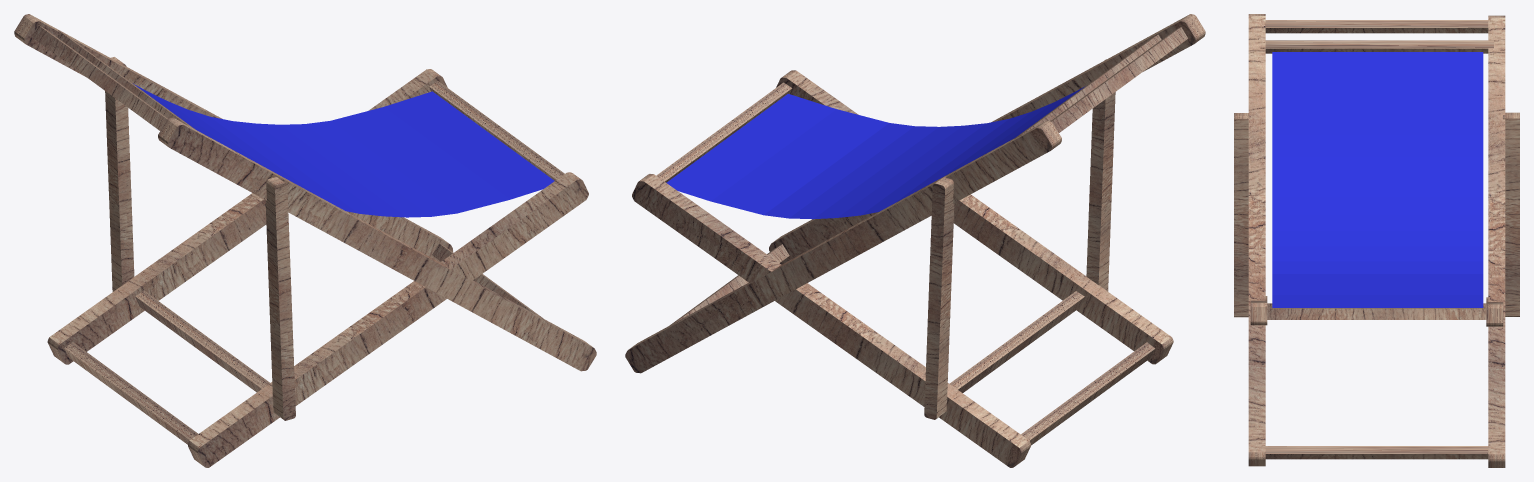
File: BeachChair.fbx
3 renders of one model, left to right at view 1: azimuth 30°, elevation 25°; view 2: azimuth 150°, elevation 25°; view 3: azimuth 270°, elevation 25°, orthographic. The views are drawn at different scales.
Parts seen in each view (by area): view 1: BeachChair; view 2: BeachChair; view 3: BeachChair.
Boxes of the visible parts, x1,y1,x2,y2 form: BeachChair: (14,14,596,467); BeachChair: (625,14,1205,467); BeachChair: (1234,14,1519,467).
Size of the model in its own units: 60.5 by 47.33 by 41.9.
Materials: 2 (1 with a texture image).
